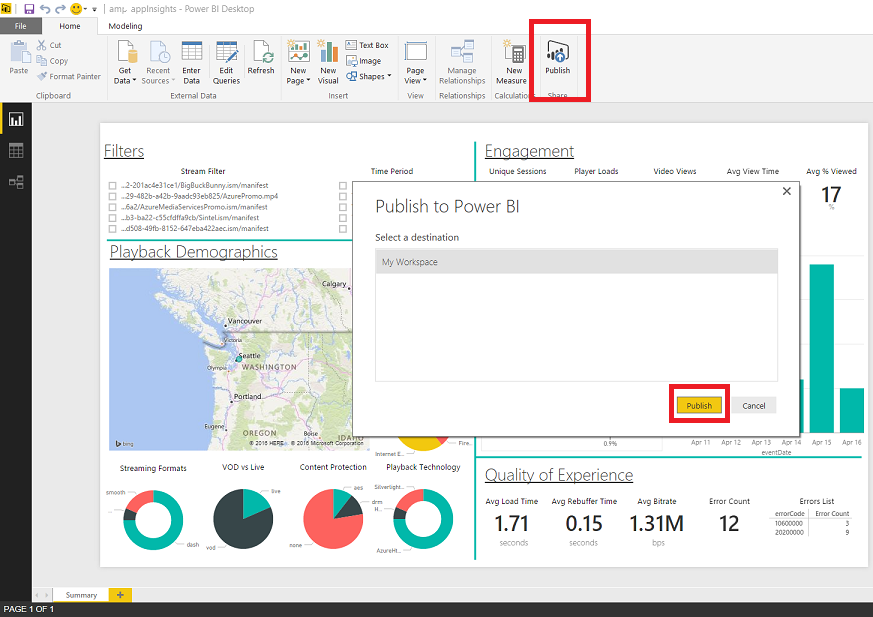

The dashboard page shown, as its layout file describes it:
{"tool":"powerbi","page":{"name":"Summary","canvas":[1280,720],"ordinal":0},"visuals":[{"type":"basicShape","box":[614,386,664,300],"z":0},{"type":"basicShape","box":[0,137,633,75],"z":1},{"type":"basicShape","box":[474,0,300,717],"z":2},{"type":"donutChart","fields":{"Category":["AMP_data.Streaming Format"],"Y":["CountNonNull(AMP_data.Streaming Format)"]},"box":[0,545,175,175],"z":3},{"type":"card","fields":{"Values":["AMP_data.Views"]},"box":[896.5,50,120,80],"z":4},{"type":"card","fields":{"Values":["Count(AMP_data.anonId)"]},"box":[635,50,120,80],"z":5},{"type":"card","fields":{"Values":["Avg(AMP_data.loadTime)"]},"box":[625,600,120,80],"z":6},{"type":"table","fields":{"Values":["AMP_data.View","AMP_data.Stream"]},"box":[635,170,325,178],"z":7},{"type":"card","fields":{"Values":["Avg(AMP_data.rebufferTime)"]},"box":[746,600,120,80],"z":8},{"type":"card","fields":{"Values":["CountNonNull(AMP_data.StreamId)"]},"box":[765.8,50,120,80],"z":9},{"type":"pieChart","fields":{"Category":["AMP_data.browser"],"Y":["CountNonNull(AMP_data.browser)"]},"box":[450,379.5,175,175],"z":10},{"type":"card","fields":{"Values":["AMP_data.%"]},"box":[1158,50,120,80],"z":11},{"type":"donutChart","fields":{"Category":["AMP_data.PlaybackTech"],"Y":["CountNonNull(AMP_data.PlaybackTech)"]},"box":[450,543,175,175],"z":12},{"type":"pieChart","fields":{"Y":["CountNonNull(AMP_data.ProtectionType)"],"Category":["AMP_data.ProtectionType"]},"box":[300,543,175,175],"z":13},{"type":"donutChart","fields":{"Category":["AMP_data.osVersion"],"Y":["CountNonNull(AMP_data.osVersion)"]},"box":[450,216,175,175],"z":14},{"type":"pieChart","fields":{"Category":["AMP_data.isLive"],"Y":["CountNonNull(AMP_data.isLive)"]},"box":[150,543,175,175],"z":15},{"type":"card","fields":{"Values":["Avg(AMP_data.avgBitrate)"]},"box":[867,600,120,80],"z":16},{"type":"textbox","box":[10,168,310,60],"z":17},{"type":"slicer","fields":{"Values":["AMP_data.truncStreamId"]},"box":[0,50,341,128],"z":18},{"type":"slicer","fields":{"Values":["AMP_data.eventDate"]},"box":[384,50,203,121],"z":19},{"type":"textbox","box":[0,0,244,49],"z":20},{"type":"textbox","box":[635,0,300,55],"z":21},{"type":"textbox","box":[635,540,300,57],"z":22},{"type":"map","fields":{"Category":["AMP_data.Location"]},"box":[9,216,444,314],"z":23},{"type":"card","fields":{"Values":["AMP_data.Error Count"]},"box":[988,600,120,80],"z":24},{"type":"matrix","fields":{"Rows":["AMP_data.errorCode"],"Values":["AMP_data.Error Count"]},"box":[1109,600,169,118],"z":25},{"type":"lineStackedColumnComboChart","fields":{"Category":["select"],"Y":["AMP_data.Views"]},"box":[953,170,324,370],"z":26},{"type":"card","fields":{"Values":["AMP_data.Measure"]},"box":[1027.2,50,120,80],"z":27},{"type":"textbox","box":[656,663,65,55],"z":28},{"type":"textbox","box":[772,663,65,55],"z":29},{"type":"textbox","box":[899,663,61,55],"z":30},{"type":"funnel","fields":{"Y":["Avg(AMP_data.playTime)","Avg(AMP_data.fullscreenTime)"]},"box":[635,360,300,165],"z":31}]}

Visuals, with their boxes on the page's 1280x720 design canvas (x1, y1, x2, y2). These are canvas units, not pixel positions in the 873x617 screenshot, which may show the page scaled, cropped or inside an application window:
basicShape: 614, 386, 1278, 686
basicShape: 0, 137, 633, 212
basicShape: 474, 0, 774, 717
donutChart - AMP_data.Streaming Format x CountNonNull(AMP_data.Streaming Format): 0, 545, 175, 720
card - AMP_data.Views: 896, 50, 1016, 130
card - Count(AMP_data.anonId): 635, 50, 755, 130
card - Avg(AMP_data.loadTime): 625, 600, 745, 680
table - AMP_data.View x AMP_data.Stream: 635, 170, 960, 348
card - Avg(AMP_data.rebufferTime): 746, 600, 866, 680
card - CountNonNull(AMP_data.StreamId): 766, 50, 886, 130
pieChart - AMP_data.browser x CountNonNull(AMP_data.browser): 450, 380, 625, 554
card - AMP_data.%: 1158, 50, 1278, 130
donutChart - AMP_data.PlaybackTech x CountNonNull(AMP_data.PlaybackTech): 450, 543, 625, 718
pieChart - CountNonNull(AMP_data.ProtectionType) x AMP_data.ProtectionType: 300, 543, 475, 718
donutChart - AMP_data.osVersion x CountNonNull(AMP_data.osVersion): 450, 216, 625, 391
pieChart - AMP_data.isLive x CountNonNull(AMP_data.isLive): 150, 543, 325, 718
card - Avg(AMP_data.avgBitrate): 867, 600, 987, 680
textbox: 10, 168, 320, 228
slicer - AMP_data.truncStreamId: 0, 50, 341, 178
slicer - AMP_data.eventDate: 384, 50, 587, 171
textbox: 0, 0, 244, 49
textbox: 635, 0, 935, 55
textbox: 635, 540, 935, 597
map - AMP_data.Location: 9, 216, 453, 530
card - AMP_data.Error Count: 988, 600, 1108, 680
matrix - AMP_data.errorCode x AMP_data.Error Count: 1109, 600, 1278, 718
lineStackedColumnComboChart - select x AMP_data.Views: 953, 170, 1277, 540
card - AMP_data.Measure: 1027, 50, 1147, 130
textbox: 656, 663, 721, 718
textbox: 772, 663, 837, 718
textbox: 899, 663, 960, 718
funnel - Avg(AMP_data.playTime) x Avg(AMP_data.fullscreenTime): 635, 360, 935, 525
